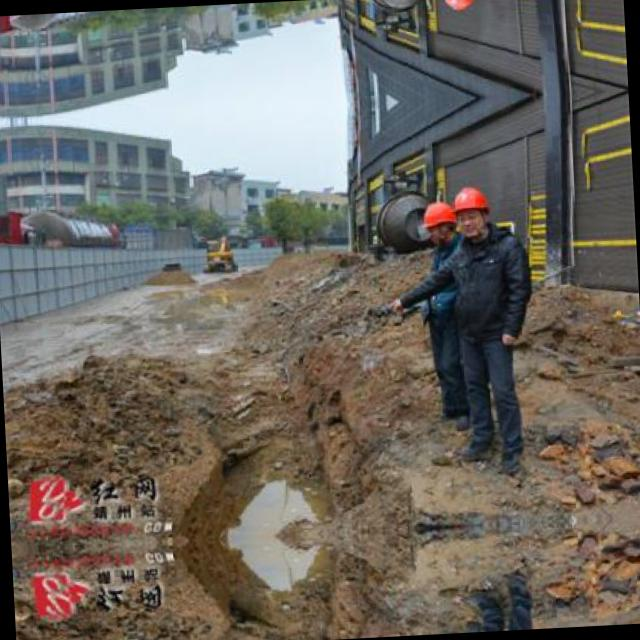helmet: (451, 185, 492, 239), (422, 200, 458, 246), (440, 0, 481, 13)
